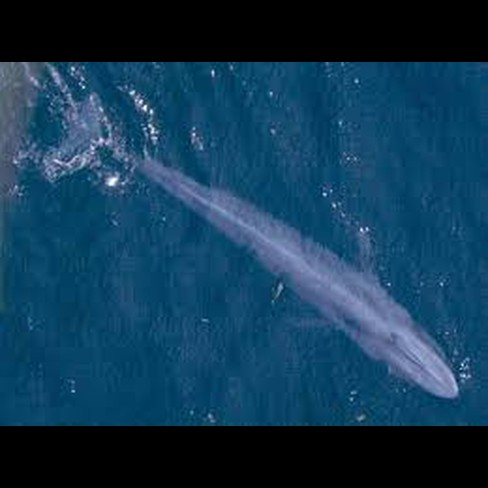bluewhale: (47, 88, 463, 406)
